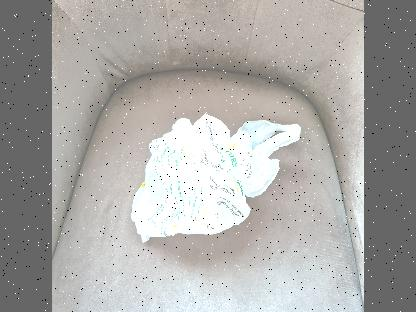Others: (127, 110, 303, 244)
